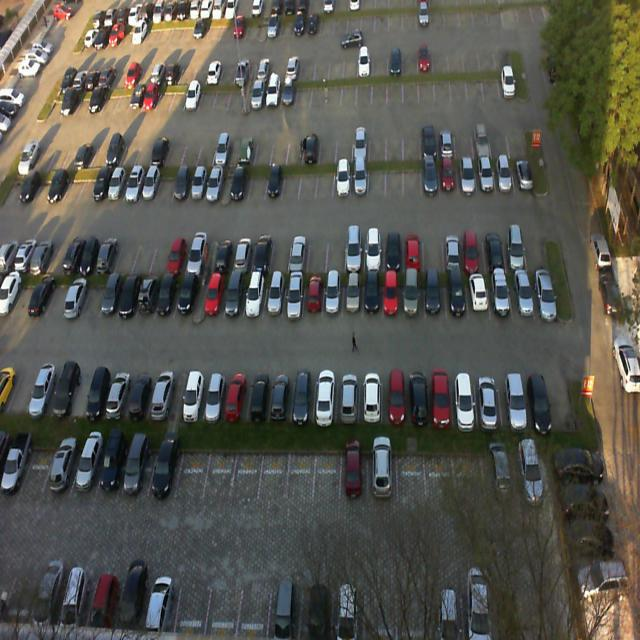space-empty: (231, 451, 264, 505), (545, 370, 576, 426), (175, 445, 209, 495), (204, 448, 238, 498), (312, 451, 342, 507), (259, 448, 291, 500), (21, 446, 55, 494), (64, 367, 93, 421), (288, 449, 314, 504), (130, 236, 156, 276), (113, 238, 140, 276), (525, 229, 549, 271), (148, 237, 172, 278), (425, 229, 445, 276), (155, 165, 177, 207), (268, 236, 290, 272), (307, 234, 327, 273), (324, 235, 344, 273), (299, 166, 317, 205), (283, 164, 300, 205), (250, 166, 268, 204), (368, 162, 386, 200), (403, 163, 421, 197), (388, 162, 404, 200), (316, 166, 332, 200)
space-occupied: (94, 445, 132, 502), (123, 442, 157, 502), (43, 445, 79, 499), (71, 446, 106, 501), (148, 444, 182, 500), (223, 370, 254, 424), (499, 373, 527, 431), (476, 372, 502, 429), (523, 371, 549, 428), (222, 272, 249, 326), (117, 271, 145, 323), (83, 371, 112, 421), (136, 267, 162, 321), (428, 375, 454, 429), (452, 374, 479, 426), (106, 371, 134, 421), (268, 373, 294, 425), (312, 372, 336, 428), (154, 274, 180, 324), (127, 370, 153, 420), (203, 370, 229, 420), (246, 372, 272, 422), (262, 270, 286, 324), (530, 270, 557, 318), (148, 374, 175, 422), (359, 371, 382, 426), (174, 272, 198, 324), (405, 374, 429, 426), (101, 270, 125, 320), (241, 275, 265, 325), (335, 373, 359, 423), (290, 372, 313, 424), (382, 371, 405, 423), (486, 273, 511, 320), (483, 227, 507, 275), (181, 373, 206, 419), (443, 226, 466, 273), (205, 273, 225, 327), (505, 227, 527, 273), (303, 276, 324, 324), (167, 238, 193, 276), (467, 275, 488, 322), (509, 276, 531, 320), (188, 164, 211, 206), (322, 277, 343, 323), (444, 277, 467, 319), (282, 276, 302, 324), (188, 239, 212, 278), (172, 165, 194, 207), (139, 165, 162, 205), (511, 156, 534, 196), (404, 226, 424, 272), (363, 276, 383, 322), (404, 274, 424, 320), (426, 276, 446, 322), (382, 231, 404, 272), (204, 166, 226, 206), (287, 234, 309, 274), (464, 228, 484, 272), (231, 164, 252, 205), (229, 238, 251, 277), (251, 235, 273, 273), (345, 231, 364, 275), (384, 276, 402, 322), (213, 239, 235, 275), (345, 275, 362, 321), (364, 235, 383, 273), (458, 162, 478, 198), (478, 158, 496, 198), (494, 160, 514, 194), (267, 166, 283, 207), (333, 165, 350, 201), (422, 163, 440, 197), (440, 162, 458, 195), (351, 164, 367, 198)
